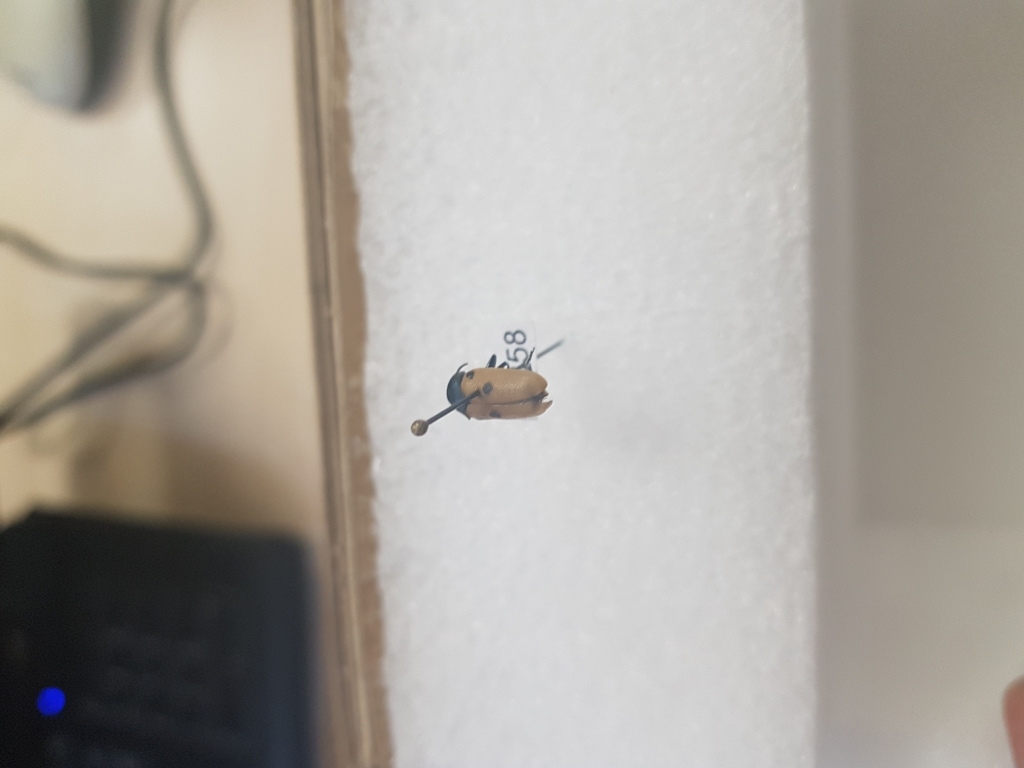Labidostomis_maculipennis: (442, 343, 561, 420)
